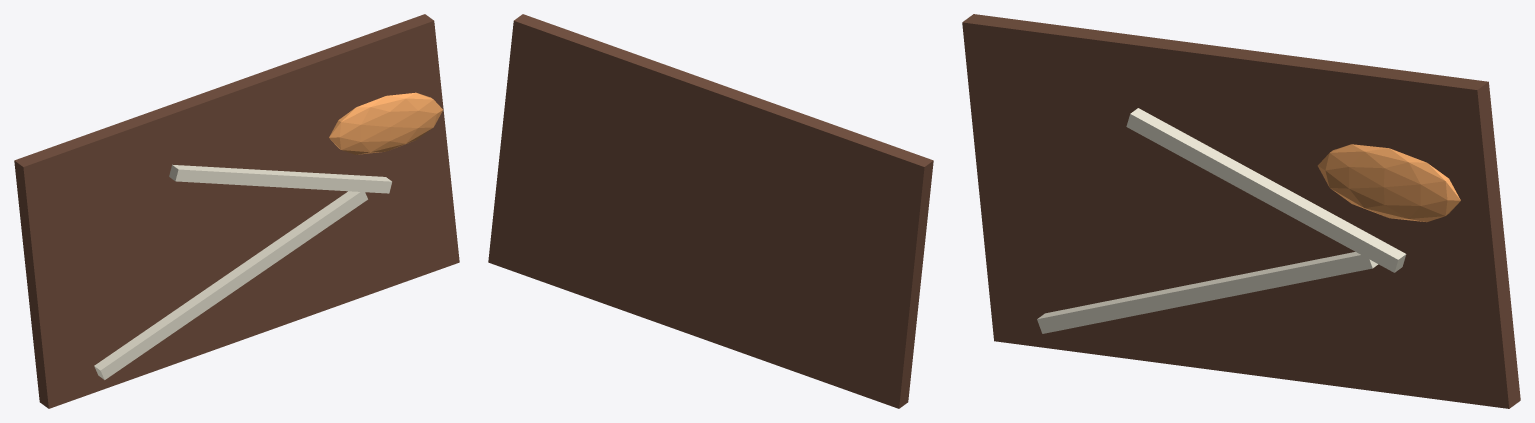
File: 05_weathering_wear_overlay_5.glb
3 views of the same model, side by side, from view 1: azimuth 30°, elevation 25°; view 2: azimuth 150°, elevation 25°; view 3: azimuth 330°, elevation 25° (orthographic). The views are drawn at different scales.
Parts seen in each view (by area): view 1: wear_plate, scratch_a, rust_or_moss_spot, scratch_b; view 2: wear_plate; view 3: wear_plate, rust_or_moss_spot, scratch_b, scratch_a.
Boxes of the visible parts, x1,y1,x2,y2 form: wear_plate: (14,14,459,408); scratch_a: (94,191,367,379); rust_or_moss_spot: (329,92,442,154); scratch_b: (169,164,391,193); wear_plate: (488,14,933,408); wear_plate: (962,14,1520,408); rust_or_moss_spot: (1317,144,1460,222); scratch_b: (1126,108,1406,272); scratch_a: (1037,252,1378,333).
Size of the model in its own units: 1.37 by 0.8846 by 0.134.
